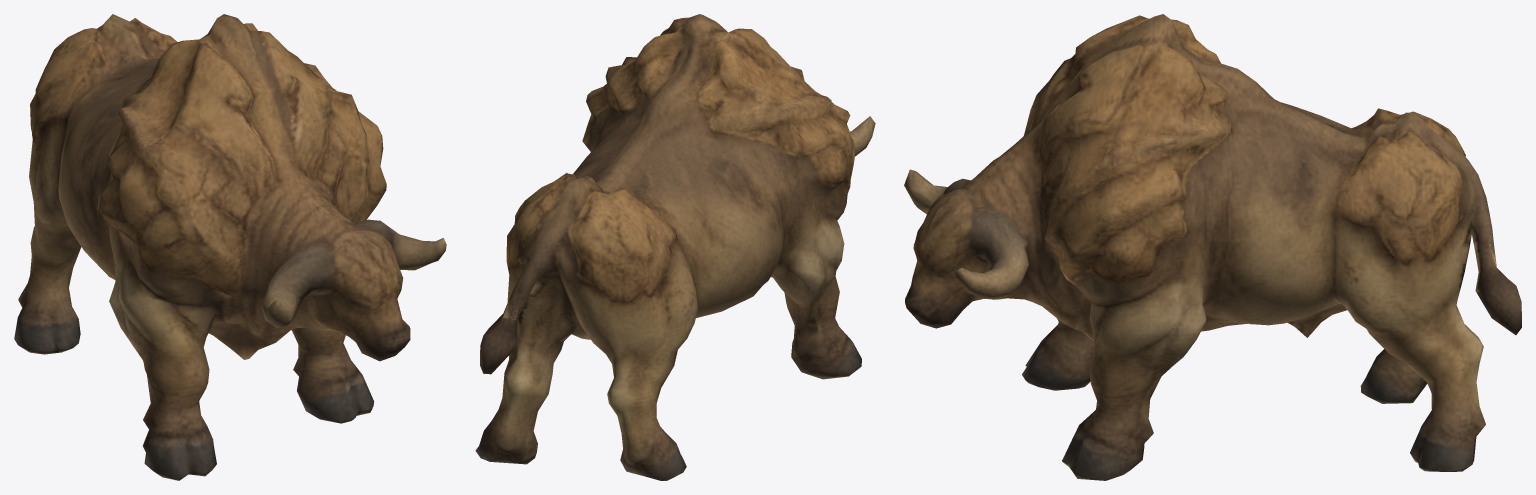
The model's file is sunbaked_colossus_v1.glb.
3 renders of one model, left to right at view 1: azimuth 30°, elevation 25°; view 2: azimuth 150°, elevation 25°; view 3: azimuth 270°, elevation 25°, orthographic. The views are drawn at different scales.
Parts seen in each view (by area): view 1: sunbaked-colossus-m0q-4000; view 2: sunbaked-colossus-m0q-4000; view 3: sunbaked-colossus-m0q-4000.
Boxes of the visible parts, x1,y1,x2,y2 form: sunbaked-colossus-m0q-4000: (14, 14, 446, 480); sunbaked-colossus-m0q-4000: (475, 14, 875, 480); sunbaked-colossus-m0q-4000: (904, 14, 1521, 480).
Size of the model in its own units: 0.5367 by 0.7358 by 1.
1 material, 1 textured.
